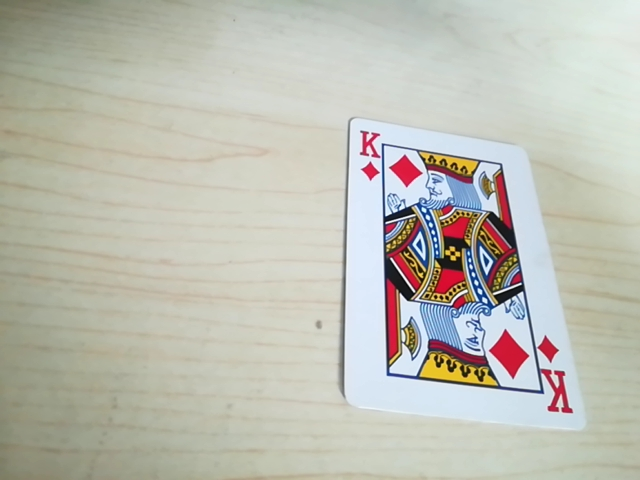fk k: (541, 355, 573, 424), (356, 128, 383, 185)
